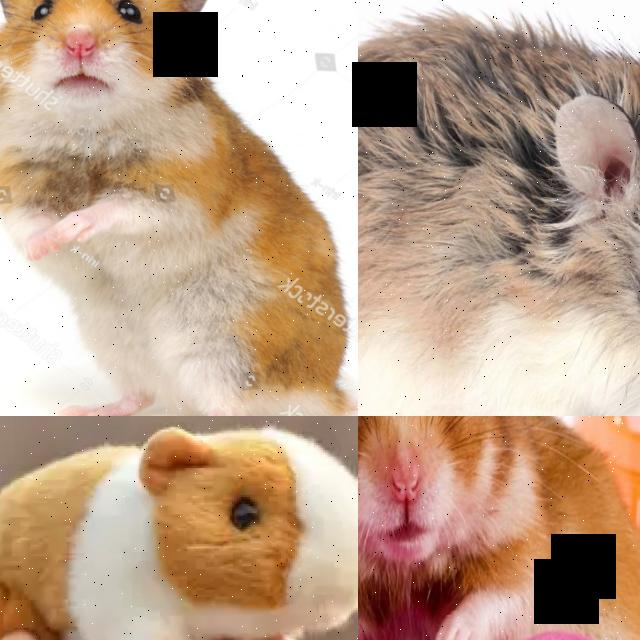hamster: (0, 0, 357, 416), (358, 0, 640, 416), (0, 420, 358, 640), (358, 416, 640, 640)
